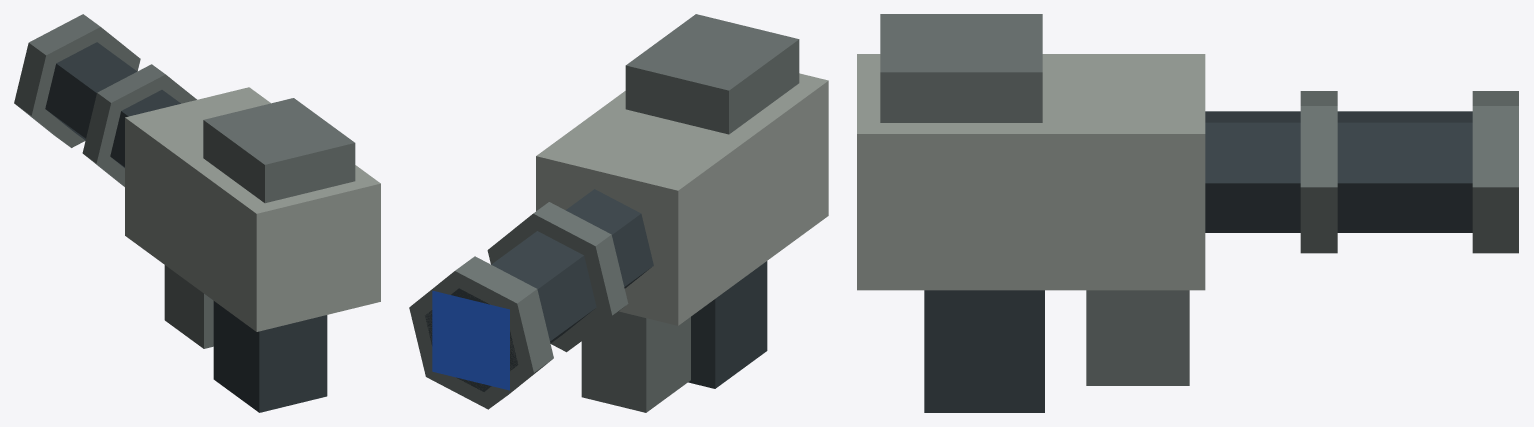
The picture shows the model from 3 angles, left to right: view 1: azimuth 30°, elevation 25°; view 2: azimuth 150°, elevation 25°; view 3: azimuth 270°, elevation 25°; orthographic projection. The views are drawn at different scales.
Parts seen in each view (by area): view 1: mount; view 2: mount; view 3: mount.
Part boxes in pixels (box(x1,y1,x2,y2)): mount: box(14, 14, 380, 412); mount: box(409, 14, 828, 412); mount: box(857, 14, 1518, 412).
Bounding box in the file's own units: 5.72 × 11.57 × 19.98.
